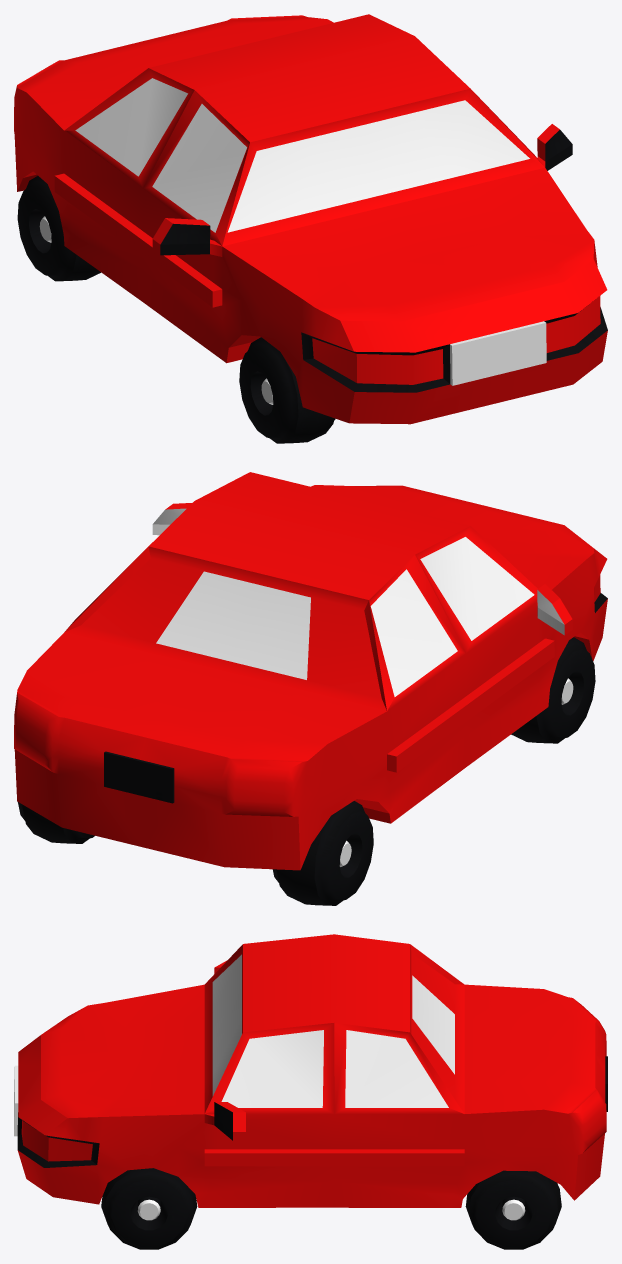
Rendered from taxi.obj.
3 views of the same model, one above another, from view 1: azimuth 30°, elevation 25°; view 2: azimuth 150°, elevation 25°; view 3: azimuth 270°, elevation 25° (orthographic). The views are drawn at different scales.
Visible parts, largest first — view 1: polySurface8 polySurface6, polySurface14 polySurface15 polySurface8 polySurface6, polySurface8 polySurface6 polySurface12; view 2: polySurface8 polySurface6, polySurface8 polySurface6 polySurface12, polySurface14 polySurface15 polySurface8 polySurface6; view 3: polySurface8 polySurface6, polySurface15 polySurface8 polySurface6 polySurface13, polySurface8 polySurface6 polySurface12.
Part boxes in pixels (x1=…): polySurface8 polySurface6: x1=14, y1=14, x2=607, y2=424; polySurface14 polySurface15 polySurface8 polySurface6: x1=239, y1=337, x2=335, y2=443; polySurface8 polySurface6 polySurface12: x1=17, y1=176, x2=100, y2=281; polySurface8 polySurface6: x1=14, y1=472, x2=607, y2=870; polySurface8 polySurface6 polySurface12: x1=18, y1=801, x2=373, y2=905; polySurface14 polySurface15 polySurface8 polySurface6: x1=511, y1=637, x2=595, y2=743; polySurface8 polySurface6: x1=14, y1=934, x2=607, y2=1207; polySurface15 polySurface8 polySurface6 polySurface13: x1=101, y1=1168, x2=197, y2=1249; polySurface8 polySurface6 polySurface12: x1=465, y1=1170, x2=561, y2=1249.
Size of the model in its own units: 1.42 by 0.8613 by 2.15.
